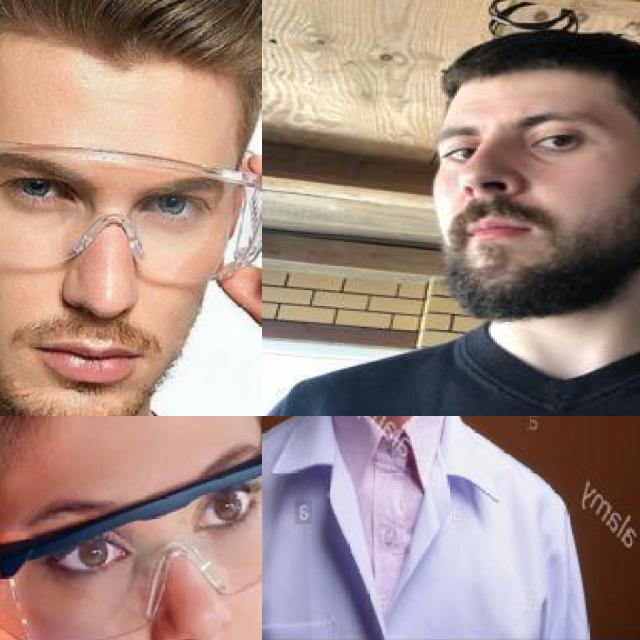No_Glasses: (416, 110, 631, 182)
face_nomask: (0, 151, 222, 403), (431, 105, 631, 318), (36, 470, 262, 640)
glasses: (0, 416, 262, 640), (0, 110, 262, 286)
head_nohelmet: (0, 0, 262, 82), (436, 26, 633, 101)
person: (278, 37, 640, 416), (262, 416, 607, 640)
